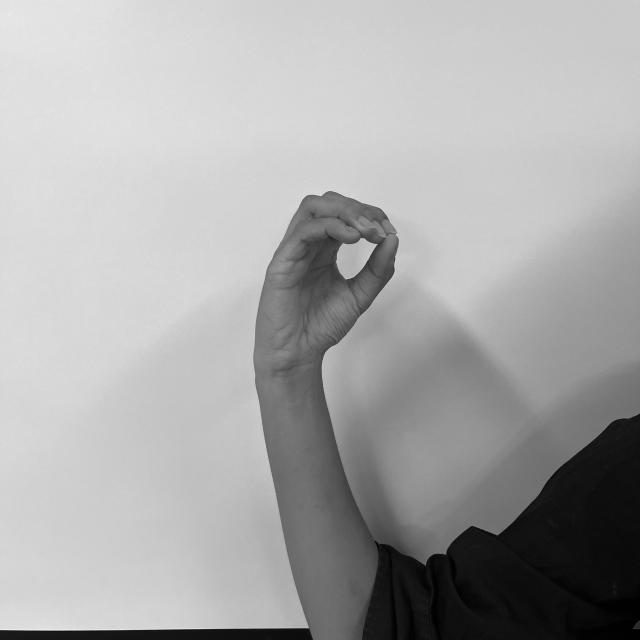Letra O: (250, 186, 402, 374)
